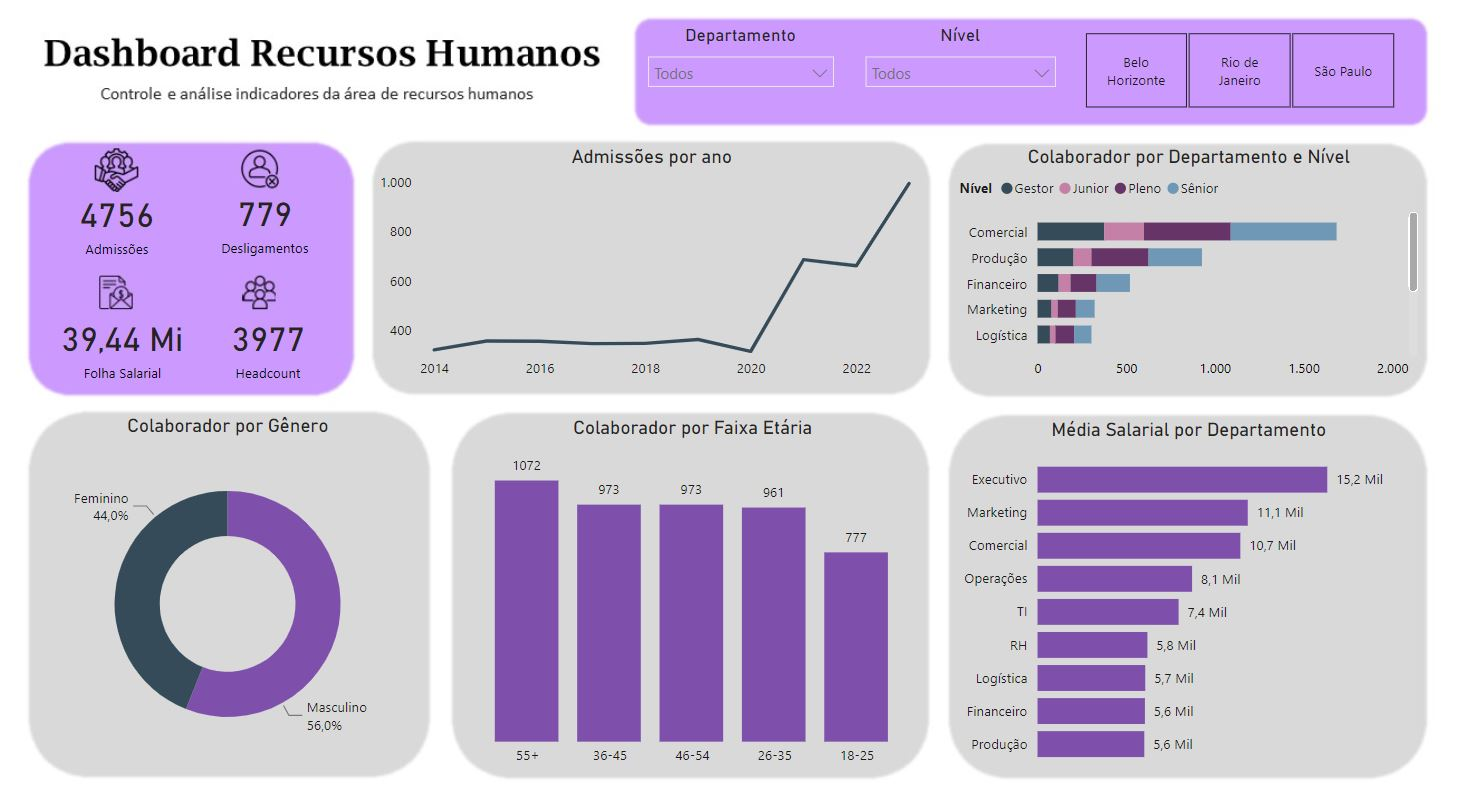

The page's visual inventory and layout, read from the dashboard file:
{"tool":"powerbi","page":{"name":"Dashboard","canvas":[1280,720],"ordinal":0},"visuals":[{"type":"card","fields":{"Values":["CountNonNull(Dados.Colaborador)"]},"box":[26.2,154.7,133.3,90.4],"z":0},{"type":"donutChart","title":"Colaborador por Gênero","fields":{"Category":["Dados.Gênero"],"Y":["CountNonNull(Dados.Gênero)"]},"box":[12,371.5,358.4,321.2],"z":1000},{"type":"clusteredColumnChart","title":"Colaborador por Faixa Etária","fields":{"Y":["CountNonNull(Dados.Colaborador)"],"Category":["Dados.Faixa Etária"]},"box":[396.7,373.9,423.1,321.2],"z":2000},{"type":"card","fields":{"Values":["Sum(Dados.Salário)"]},"box":[30,265.2,134.2,91.1],"z":3000},{"type":"slicer","title":"Departamento","fields":{"Values":["Dados.Departamento"]},"box":[557,23.5,186.6,80.8],"z":4000},{"type":"slicer","fields":{"Values":["Dados.Unidade"]},"box":[933.2,23.5,326.2,80.8],"z":5000},{"type":"slicer","title":"Nível","fields":{"Values":["Dados.Nível"]},"box":[752.7,24,190.6,80.3],"z":6000},{"type":"barChart","title":"Colaborador por Departamento e Nível","fields":{"Category":["Dados.Departamento"],"Y":["CountNonNull(Dados.Colaborador)"],"Series":["Dados.Nível"]},"box":[841.3,130.6,420.7,218.1],"z":7000},{"type":"lineChart","title":"Admissões por ano","fields":{"Category":["Dados.Data Admissão.Variation.Hierarquia de datas.Ano","Dados.Data Admissão.Variation.Hierarquia de datas.Trimestre","Dados.Data Admissão.Variation.Hierarquia de datas.Mês","Dados.Data Admissão.Variation.Hierarquia de datas.Dia"],"Y":["CountNonNull(Dados.Colaborador)"]},"box":[322.4,130.6,497.4,218.1],"z":8000},{"type":"card","fields":{"Values":["CountNonNull(Dados.Colaborador)"]},"box":[160.7,265.2,133,91.1],"z":9000},{"type":"card","fields":{"Values":["CountNonNull(Dados.Colaborador)"]},"box":[159.4,153.4,131.8,91.1],"z":10000},{"type":"barChart","title":"Média Salarial por Departamento","fields":{"Category":["Dados.Departamento"],"Y":["Avg(Dados.Salário)"]},"box":[841.3,375.1,420.7,321.2],"z":11000}]}

Visuals, with their boxes in screenshot pixels (x1, y1, x2, y2), scaled from the page's 1280x720 canvas onto the 1466x802 screenshot:
card - CountNonNull(Dados.Colaborador): pyautogui.locateOnScreen(30, 172, 183, 273)
"Colaborador por Gênero" donutChart: pyautogui.locateOnScreen(14, 414, 424, 772)
"Colaborador por Faixa Etária" clusteredColumnChart: pyautogui.locateOnScreen(454, 416, 939, 774)
card - Sum(Dados.Salário): pyautogui.locateOnScreen(34, 295, 188, 397)
"Departamento" slicer: pyautogui.locateOnScreen(638, 26, 852, 116)
slicer - Dados.Unidade: pyautogui.locateOnScreen(1069, 26, 1442, 116)
"Nível" slicer: pyautogui.locateOnScreen(862, 27, 1080, 116)
"Colaborador por Departamento e Nível" barChart: pyautogui.locateOnScreen(964, 145, 1445, 388)
"Admissões por ano" lineChart: pyautogui.locateOnScreen(369, 145, 939, 388)
card - CountNonNull(Dados.Colaborador): pyautogui.locateOnScreen(184, 295, 336, 397)
card - CountNonNull(Dados.Colaborador): pyautogui.locateOnScreen(183, 171, 334, 272)
"Média Salarial por Departamento" barChart: pyautogui.locateOnScreen(964, 418, 1445, 776)
